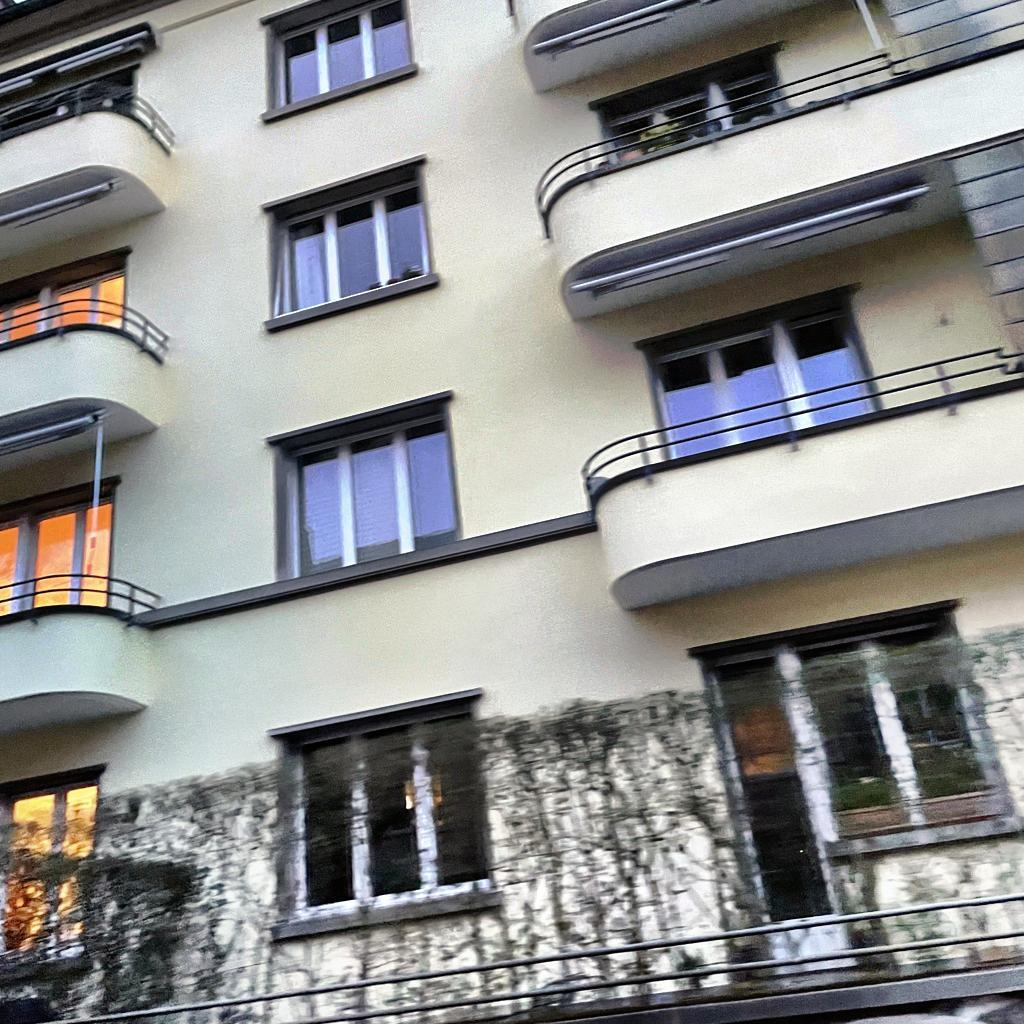balcony-fence: (579, 344, 1024, 521), (535, 51, 898, 241), (0, 81, 179, 155), (0, 298, 170, 364), (0, 574, 160, 624)
fence: (52, 885, 1024, 1024)
vegetation: (0, 620, 1024, 1024)
window: (703, 615, 1011, 913), (283, 700, 497, 922), (627, 281, 882, 465), (287, 411, 459, 579), (585, 38, 794, 169), (268, 176, 429, 319), (0, 778, 101, 964), (0, 489, 114, 617), (0, 268, 126, 345)
